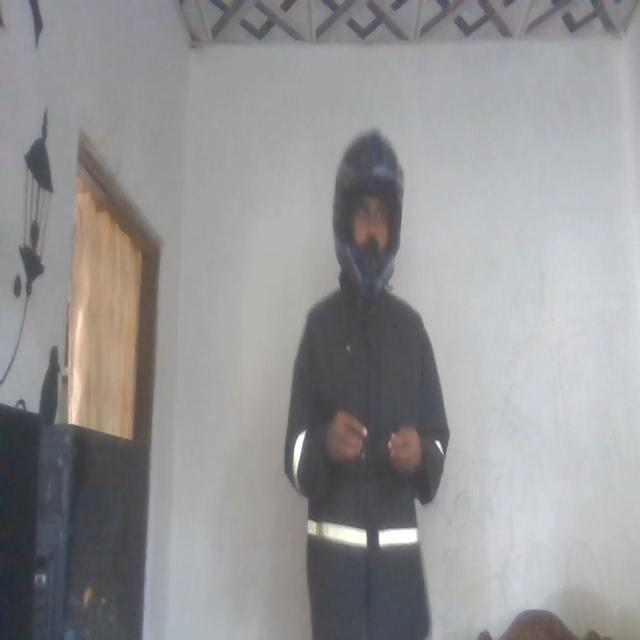Helmet_Wearer: (324, 124, 404, 304)
Jacket_Wearer: (287, 284, 443, 634)
Person: (281, 120, 453, 640)
